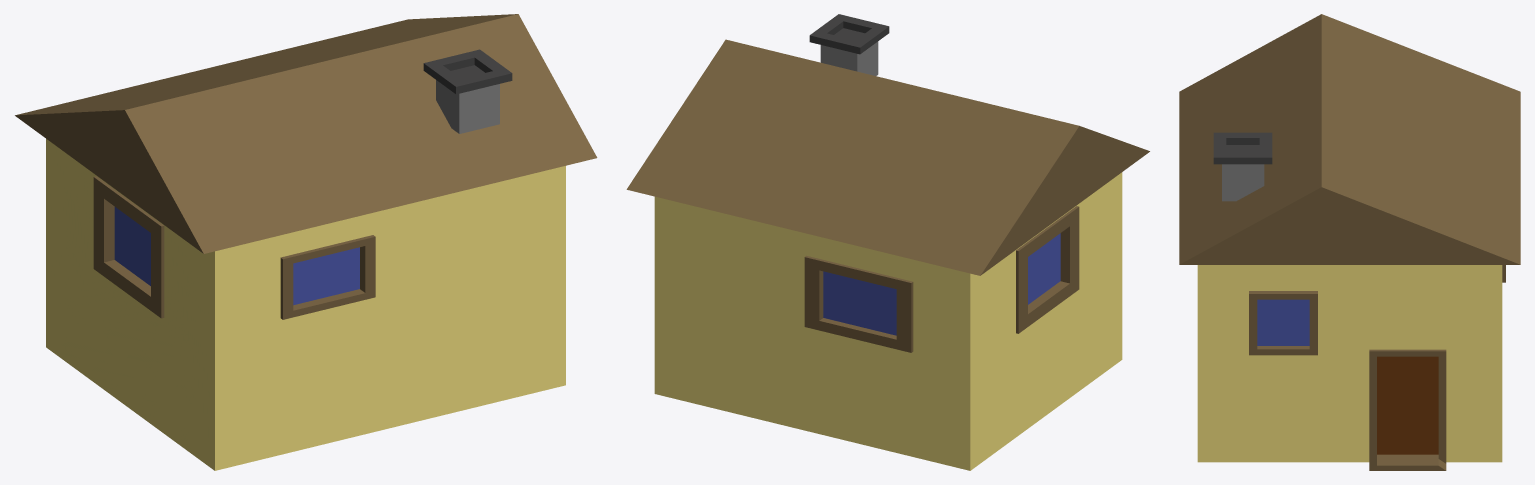
File: Home-2.fbx
The picture shows the model from 3 angles, left to right: view 1: azimuth 30°, elevation 25°; view 2: azimuth 150°, elevation 25°; view 3: azimuth 270°, elevation 25°; orthographic projection. The views are drawn at different scales.
Parts seen in each view (by area): view 1: Home-2; view 2: Home-2; view 3: Home-2.
Boxes of the visible parts, bbox=[...] form: Home-2: bbox=[15, 14, 597, 470]; Home-2: bbox=[626, 14, 1149, 470]; Home-2: bbox=[1179, 14, 1520, 470].
Bounding box in the file's own units: 7.95 × 6.11 × 6.62.
